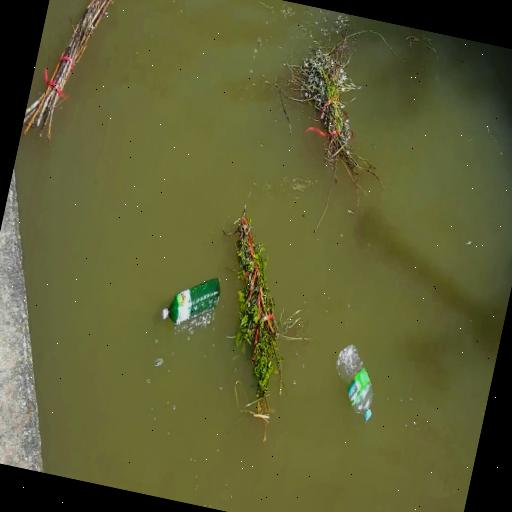plastic: (320, 336, 384, 432), (156, 268, 224, 338)
twig: (204, 222, 310, 412), (21, 0, 129, 148), (282, 27, 378, 185)
